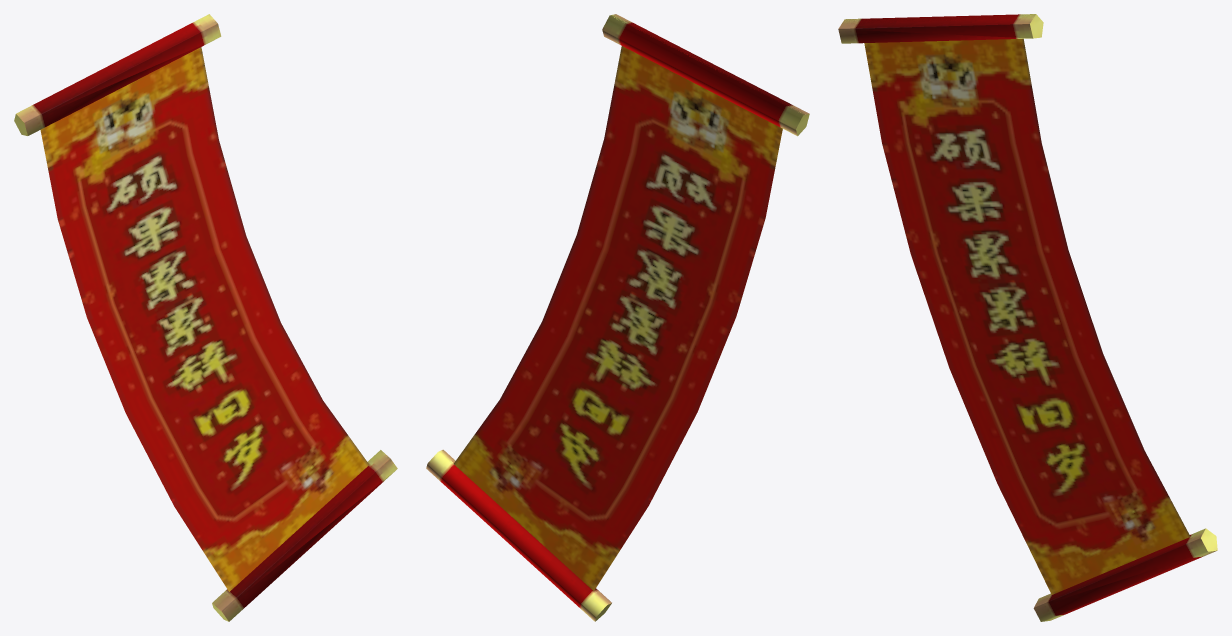
Rendered from furni_0200224.FBX.
3 views of the same model, side by side, from view 1: azimuth 30°, elevation 25°; view 2: azimuth 150°, elevation 25°; view 3: azimuth 330°, elevation 25° (orthographic).
Visible parts, largest first — view 1: furni_0200224; view 2: furni_0200224; view 3: furni_0200224.
Boxes of the visible parts, box(x1,y1,x2,y2) form: furni_0200224: box(14, 14, 397, 621); furni_0200224: box(426, 14, 809, 621); furni_0200224: box(838, 14, 1217, 621).
Size of the model in its own units: 101 by 155 by 5.63.
Materials: 1 (1 with a texture image).
